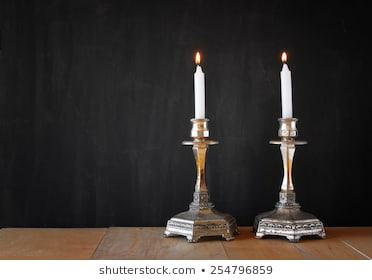Fire: (277, 48, 293, 64), (189, 49, 202, 64)
